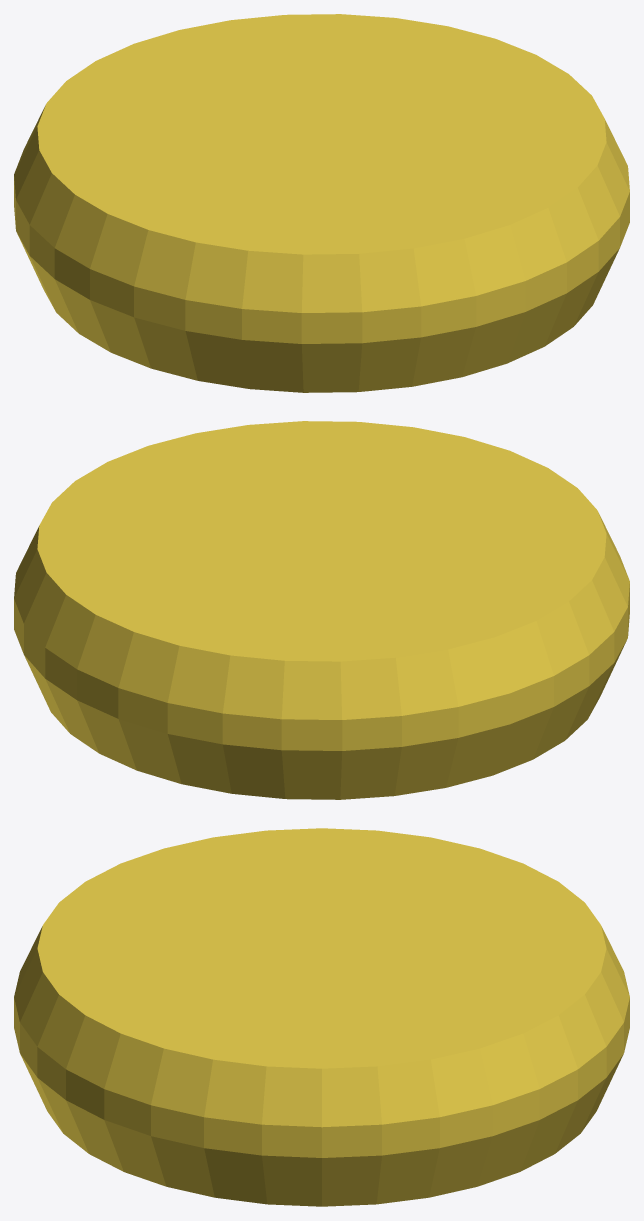
Rendered from Cheese.glb.
3 views of the same model, one above another, from view 1: azimuth 30°, elevation 25°; view 2: azimuth 150°, elevation 25°; view 3: azimuth 270°, elevation 25° (orthographic).
Parts seen in each view (by area): view 1: Cylinder; view 2: Cylinder; view 3: Cylinder.
Part boxes in pixels (x1,y1,x2,y2): Cylinder: [14, 14, 629, 392]; Cylinder: [14, 421, 629, 799]; Cylinder: [14, 828, 629, 1206].
Size of the model in its own units: 2.2 by 0.5513 by 2.2.
